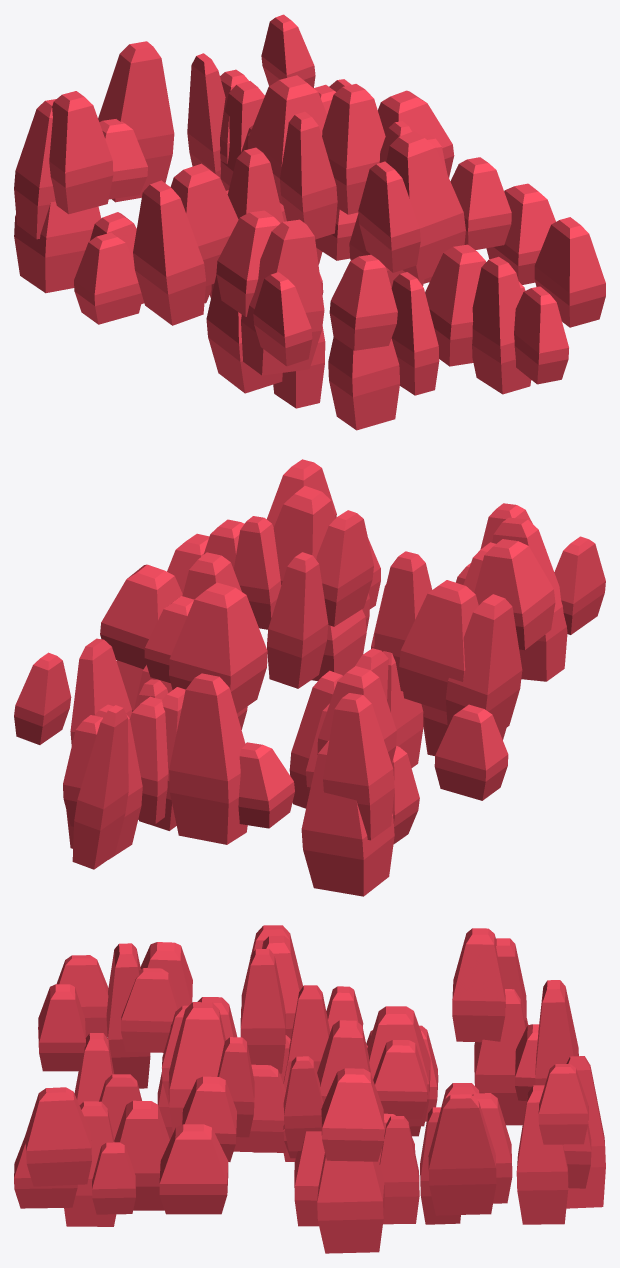
File: coral2textured.glb
3 renders of one model, top to bottom at view 1: azimuth 30°, elevation 25°; view 2: azimuth 150°, elevation 25°; view 3: azimuth 270°, elevation 25°, orthographic. The views are drawn at different scales.
Parts seen in each view (by area): view 1: coral 2; view 2: coral 2; view 3: coral 2.
Part boxes in pixels (x1,y1,x2,y2): coral 2: [14, 14, 605, 430]; coral 2: [14, 459, 605, 896]; coral 2: [14, 925, 605, 1253].
Bounding box in the file's own units: 7.65 × 4.24 × 10.62.
1 material, 1 textured.
